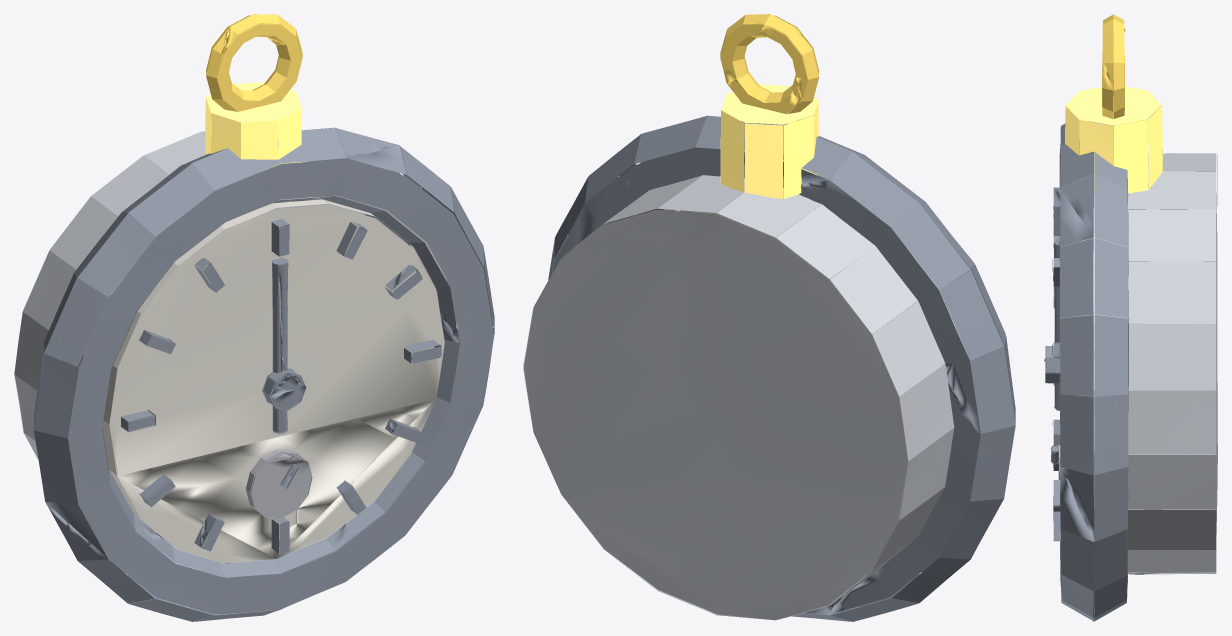
Rendered from clock.glb.
The picture shows the model from 3 angles, left to right: view 1: azimuth 30°, elevation 25°; view 2: azimuth 150°, elevation 25°; view 3: azimuth 270°, elevation 25°; orthographic projection. The views are drawn at different scales.
Visible parts, largest first — view 1: PangClockCase; view 2: PangClockCase; view 3: PangClockCase.
Part boxes in pixels (x1,y1,x2,y2): PangClockCase: (14,14,494,621); PangClockCase: (523,14,1015,621); PangClockCase: (1044,14,1217,621).
Size of the model in its own units: 0.8116 by 1 by 0.2705.
